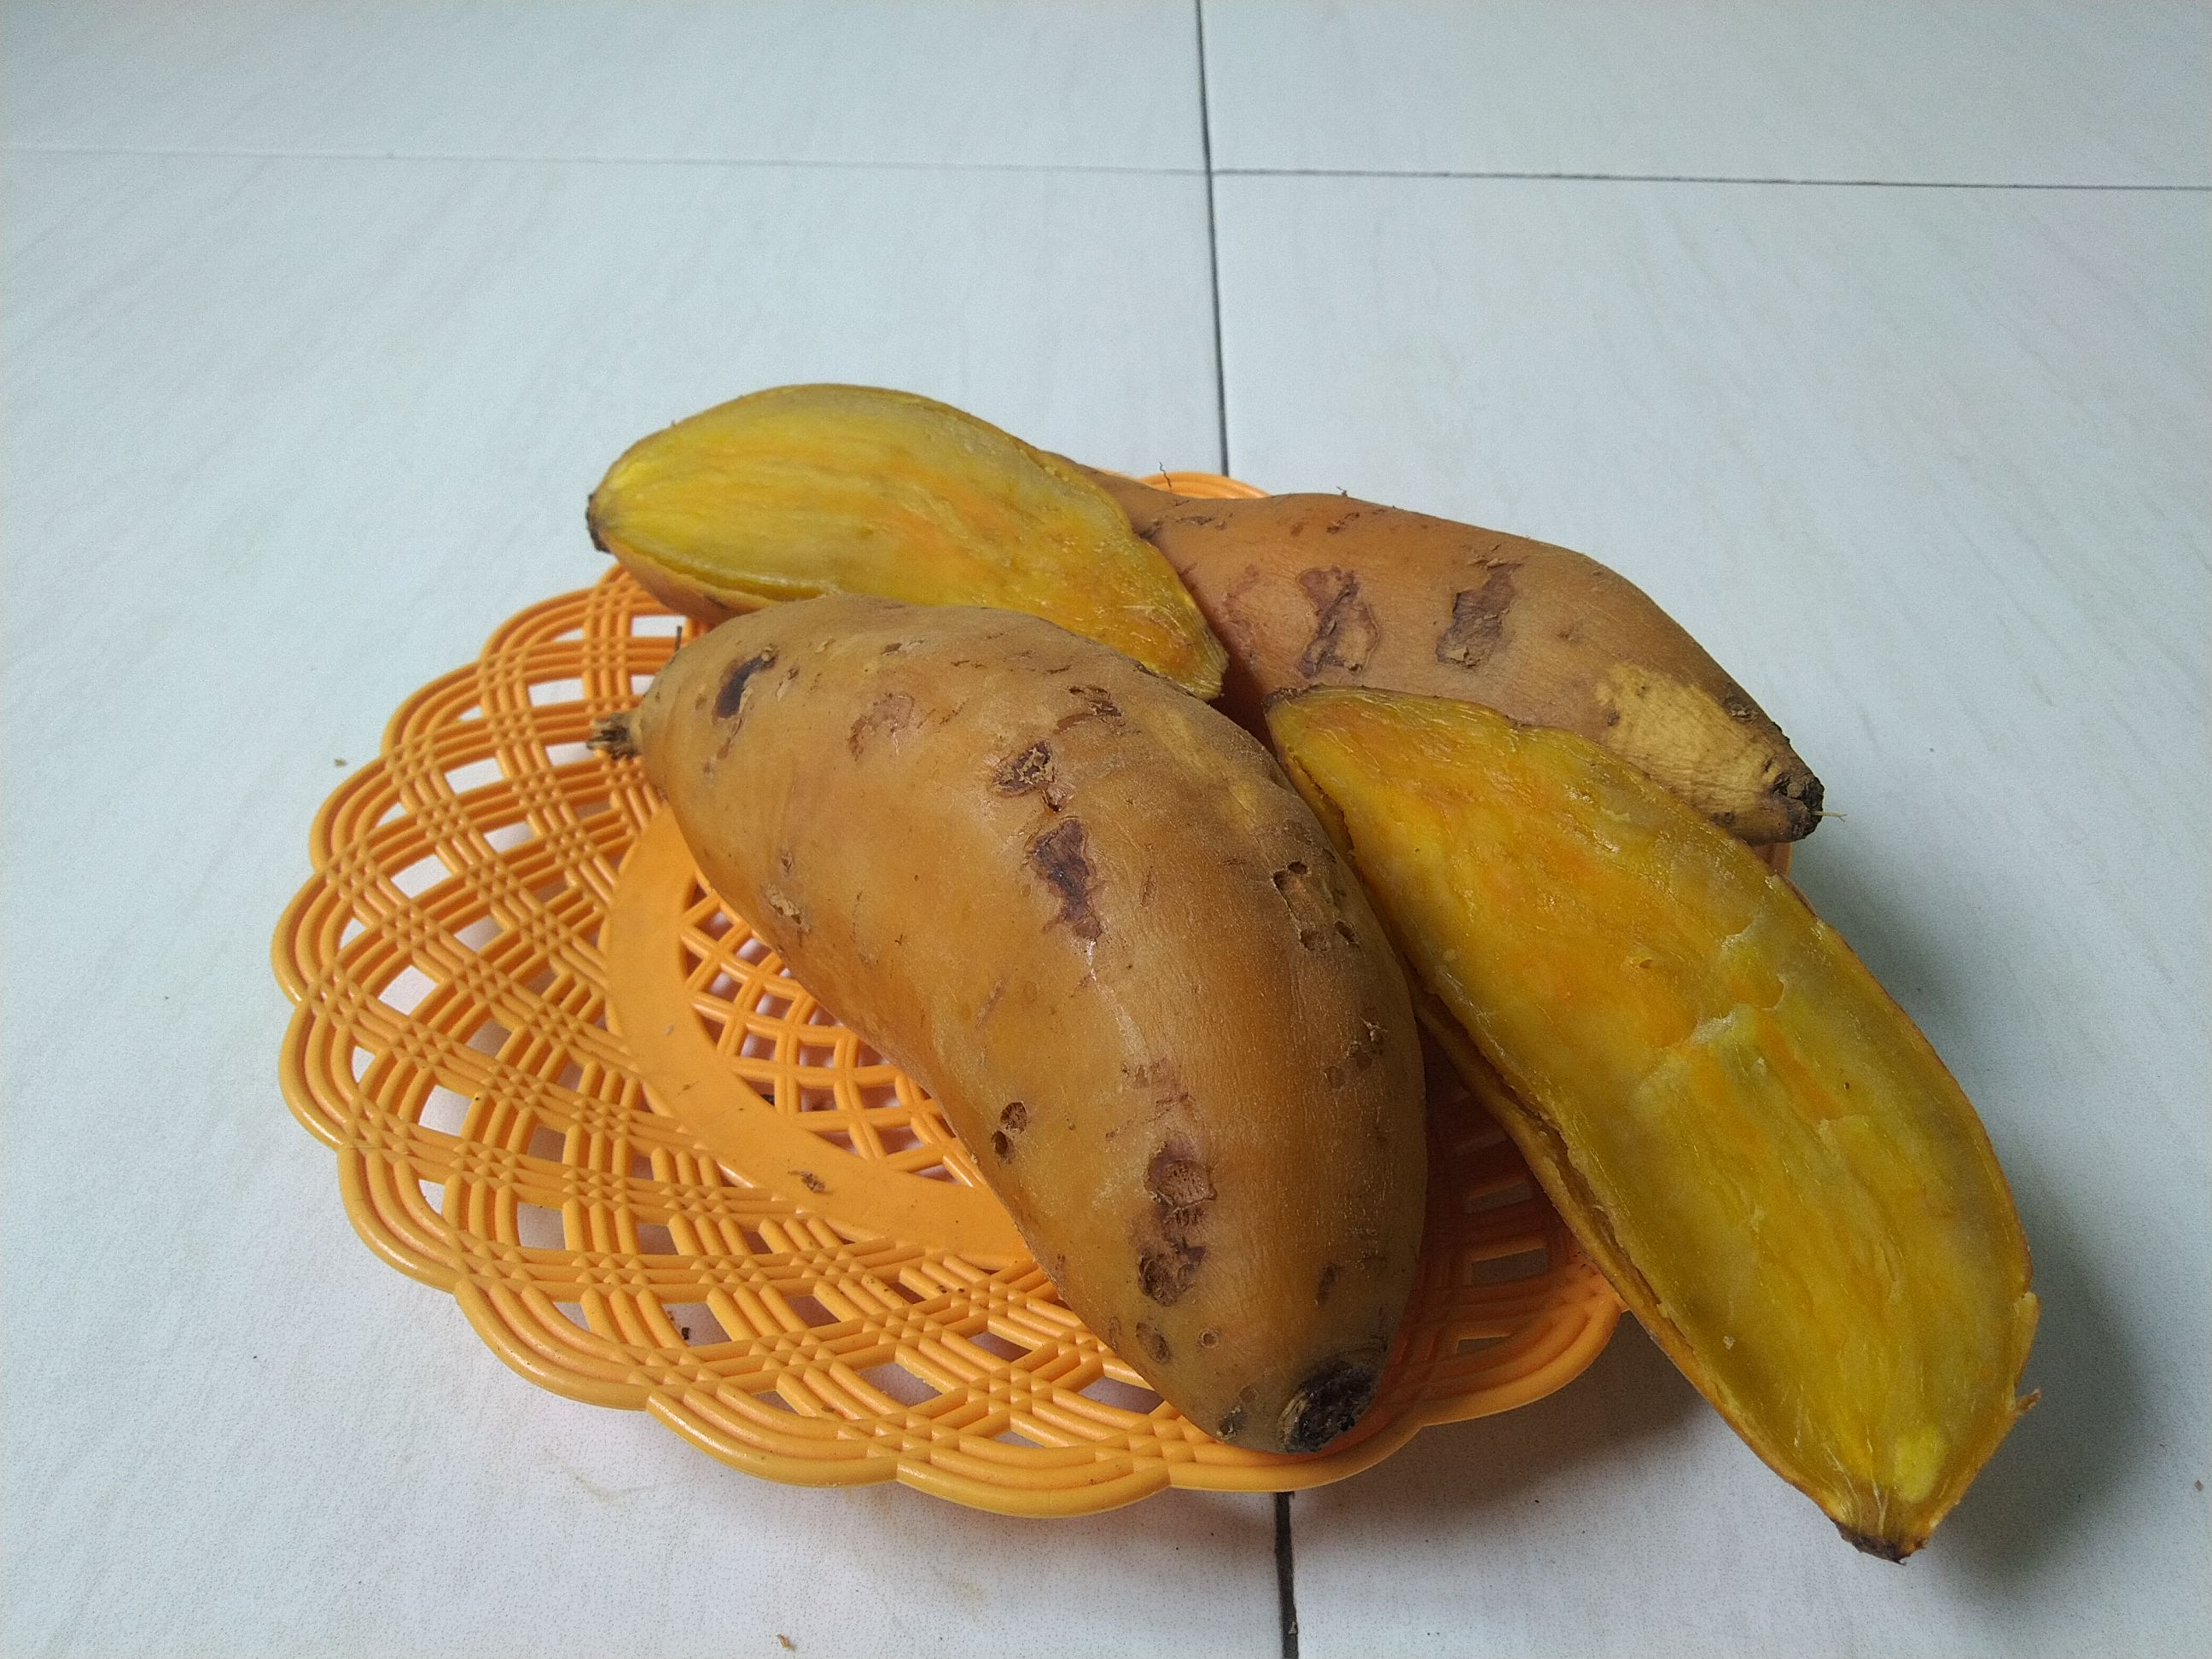ubi cilembu: (594, 350, 2078, 1565), (599, 596, 1423, 1480), (1259, 687, 2052, 1581), (1059, 439, 1855, 833), (580, 376, 1237, 704)
